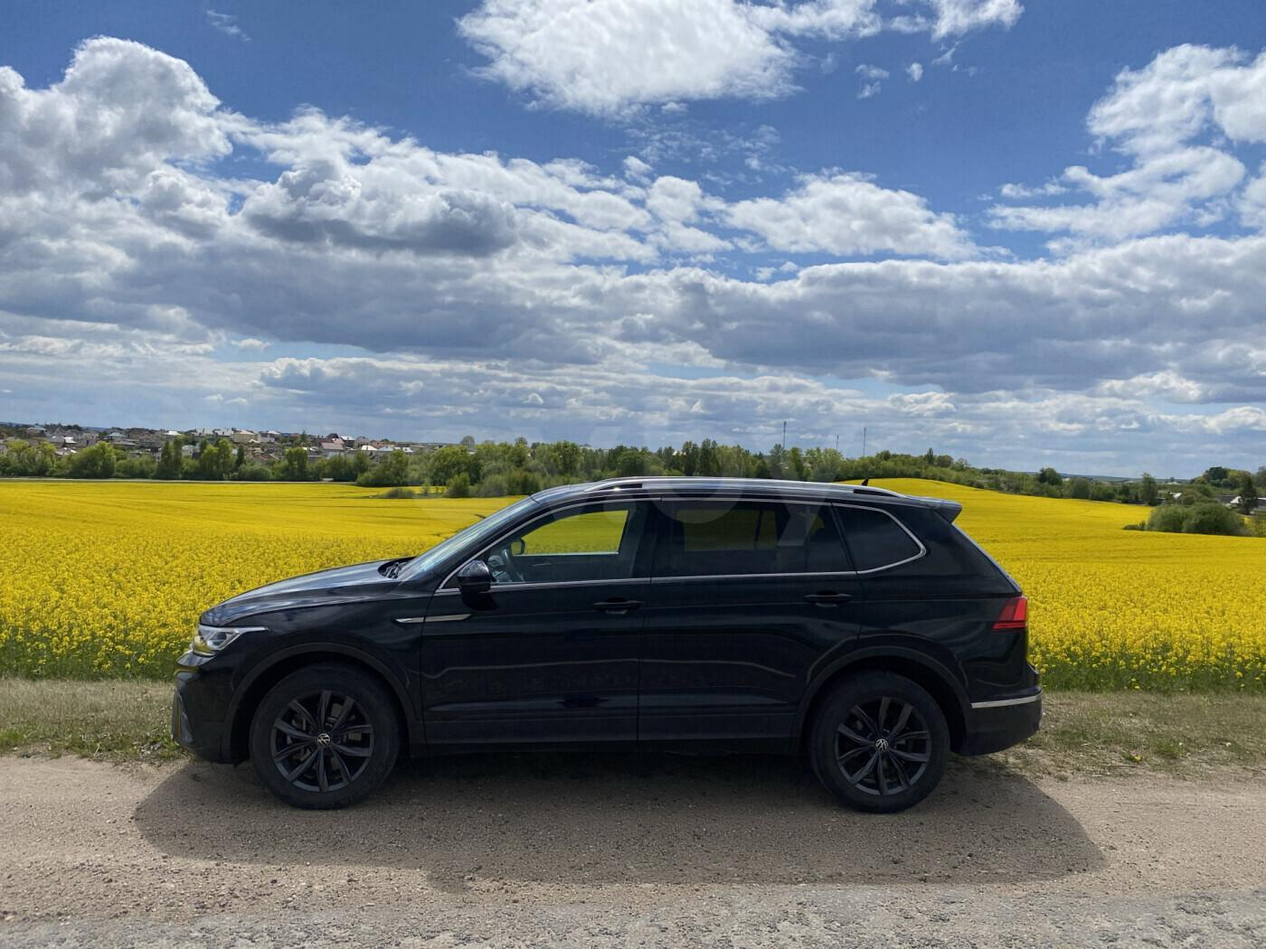Tiguan_2020-2024: (169, 476, 1043, 817)
